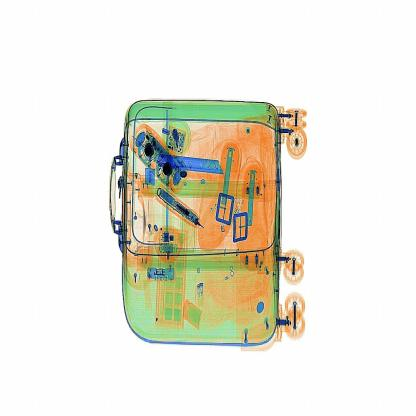pliers: (160, 152, 226, 180)
